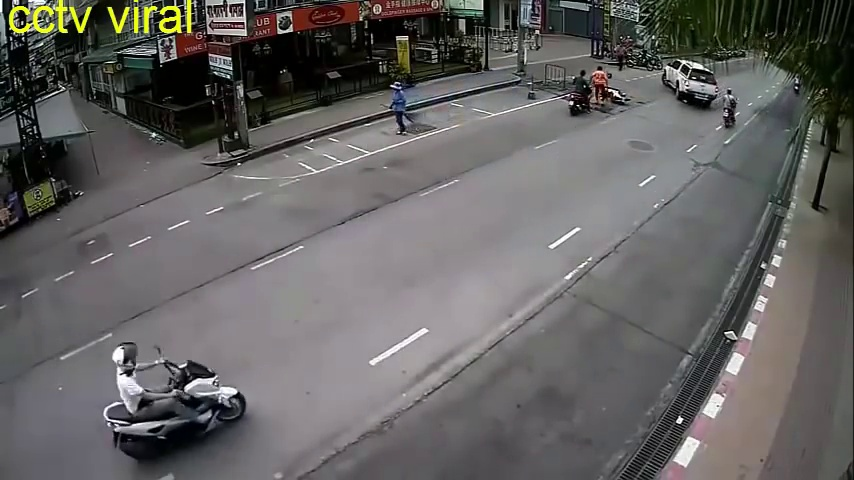car: (662, 59, 718, 108)
motorbike: (95, 343, 248, 460), (568, 69, 590, 118), (721, 88, 737, 131)
